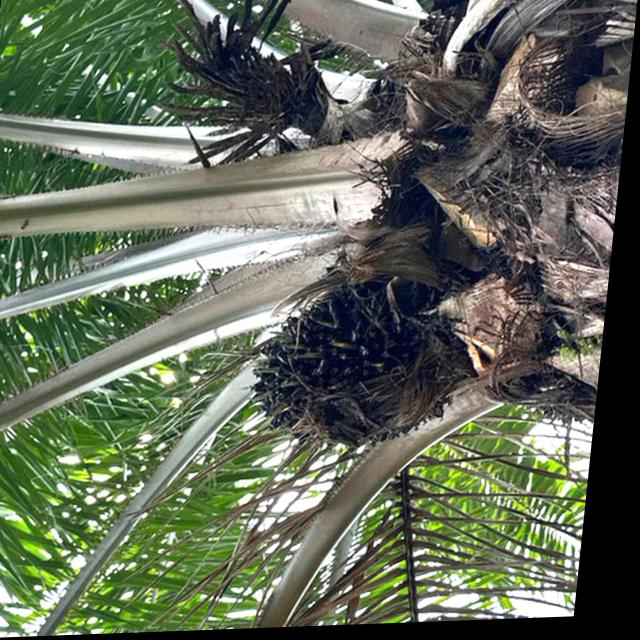unripe: (236, 251, 490, 471)
